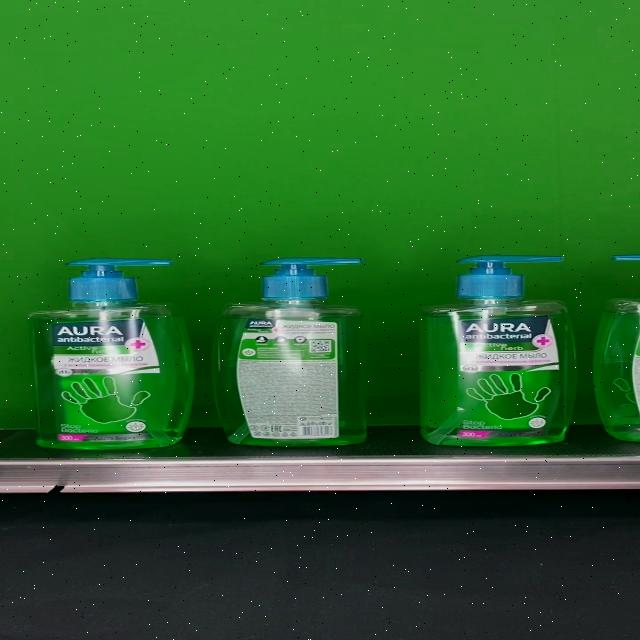Bottle: (28, 258, 194, 450), (420, 255, 578, 446), (212, 257, 368, 446)
Cap: (455, 255, 565, 297), (68, 258, 172, 301), (261, 257, 364, 299)
